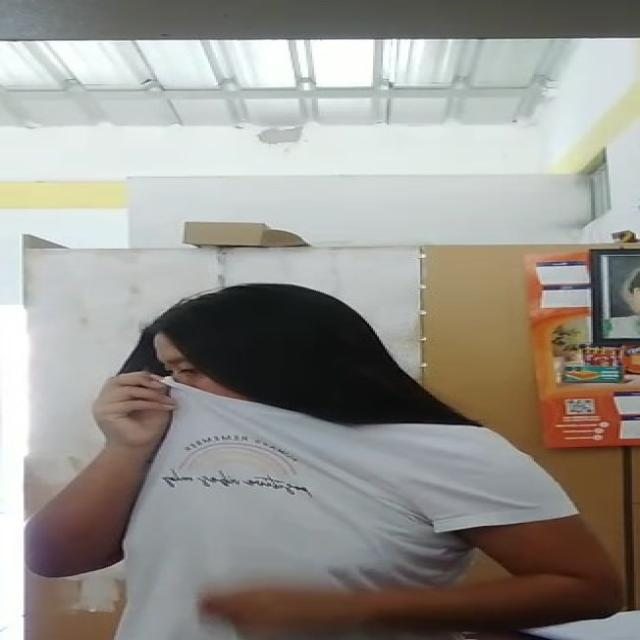8_ropa_rostro: (96, 374, 310, 498)
